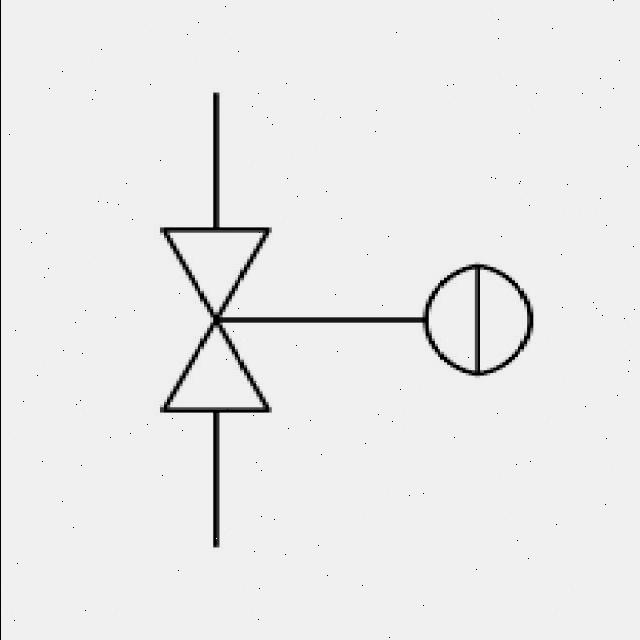Balance Diaphragm Gate Valve: (80, 187, 562, 462)
